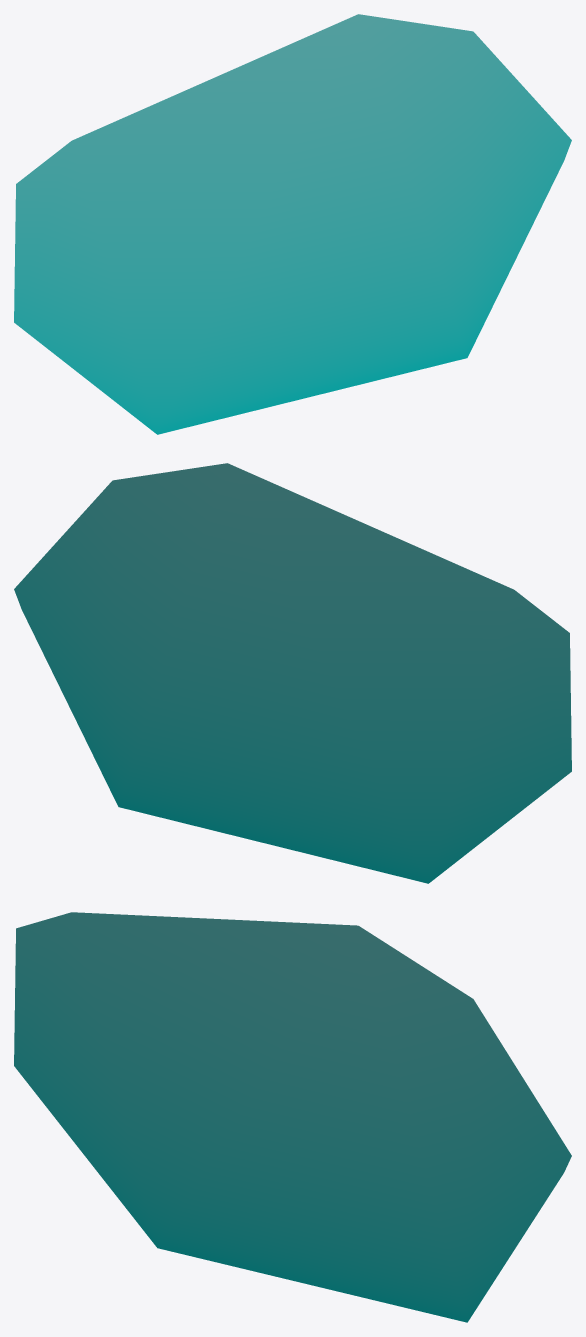
File: Common_Hemp_Nettle_xh1kdfbqx_Low_xh1kdfbqx_VarG_LOD3.fbx
3 renders of one model, top to bottom at view 1: azimuth 30°, elevation 25°; view 2: azimuth 150°, elevation 25°; view 3: azimuth 330°, elevation 25°, orthographic.
Parts seen in each view (by area): view 1: _i4qq_VarG_LOD5; view 2: _i4qq_VarG_LOD5; view 3: _i4qq_VarG_LOD5.
Boxes of the visible parts, box(x1,y1,x2,y2) form: _i4qq_VarG_LOD5: box(14, 14, 571, 434); _i4qq_VarG_LOD5: box(14, 463, 571, 883); _i4qq_VarG_LOD5: box(14, 912, 571, 1322).
Size of the model in its own units: 143 by 91.11 by 3.98e-06.
